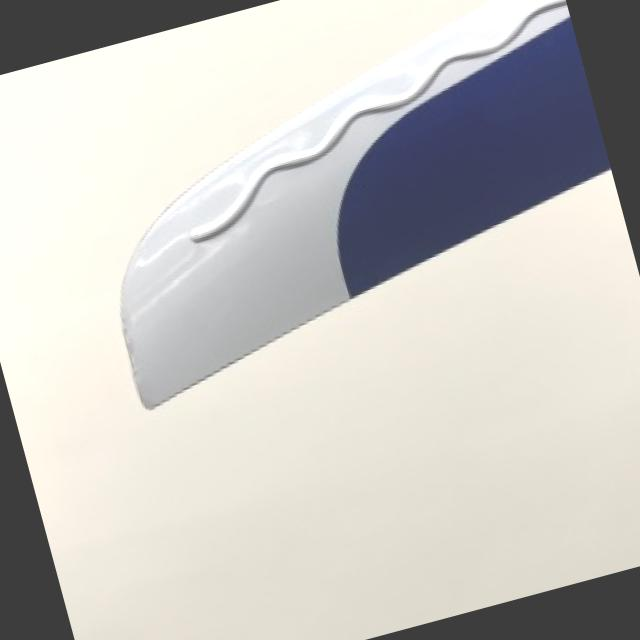healthy: (122, 0, 610, 404)
